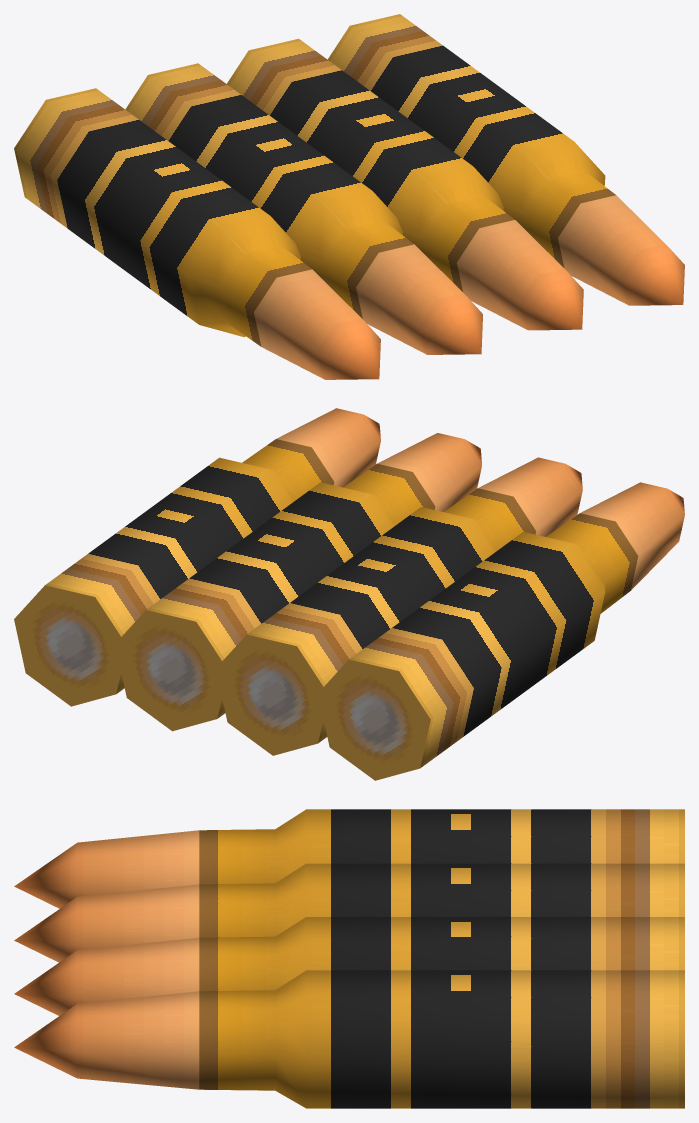
File: AmmoLinked.fbx
The picture shows the model from 3 angles, top to bottom: view 1: azimuth 30°, elevation 25°; view 2: azimuth 150°, elevation 25°; view 3: azimuth 270°, elevation 25°; orthographic projection. The views are drawn at different scales.
Parts seen in each view (by area): view 1: RifleLinked; view 2: RifleLinked; view 3: RifleLinked.
Boxes of the visible parts, x1,y1,x2,y2 form: RifleLinked: (14,14,684,379); RifleLinked: (14,408,684,780); RifleLinked: (14,809,684,1108).
Bounding box in the file's own units: 0.084 × 0.0222 × 0.1079.
